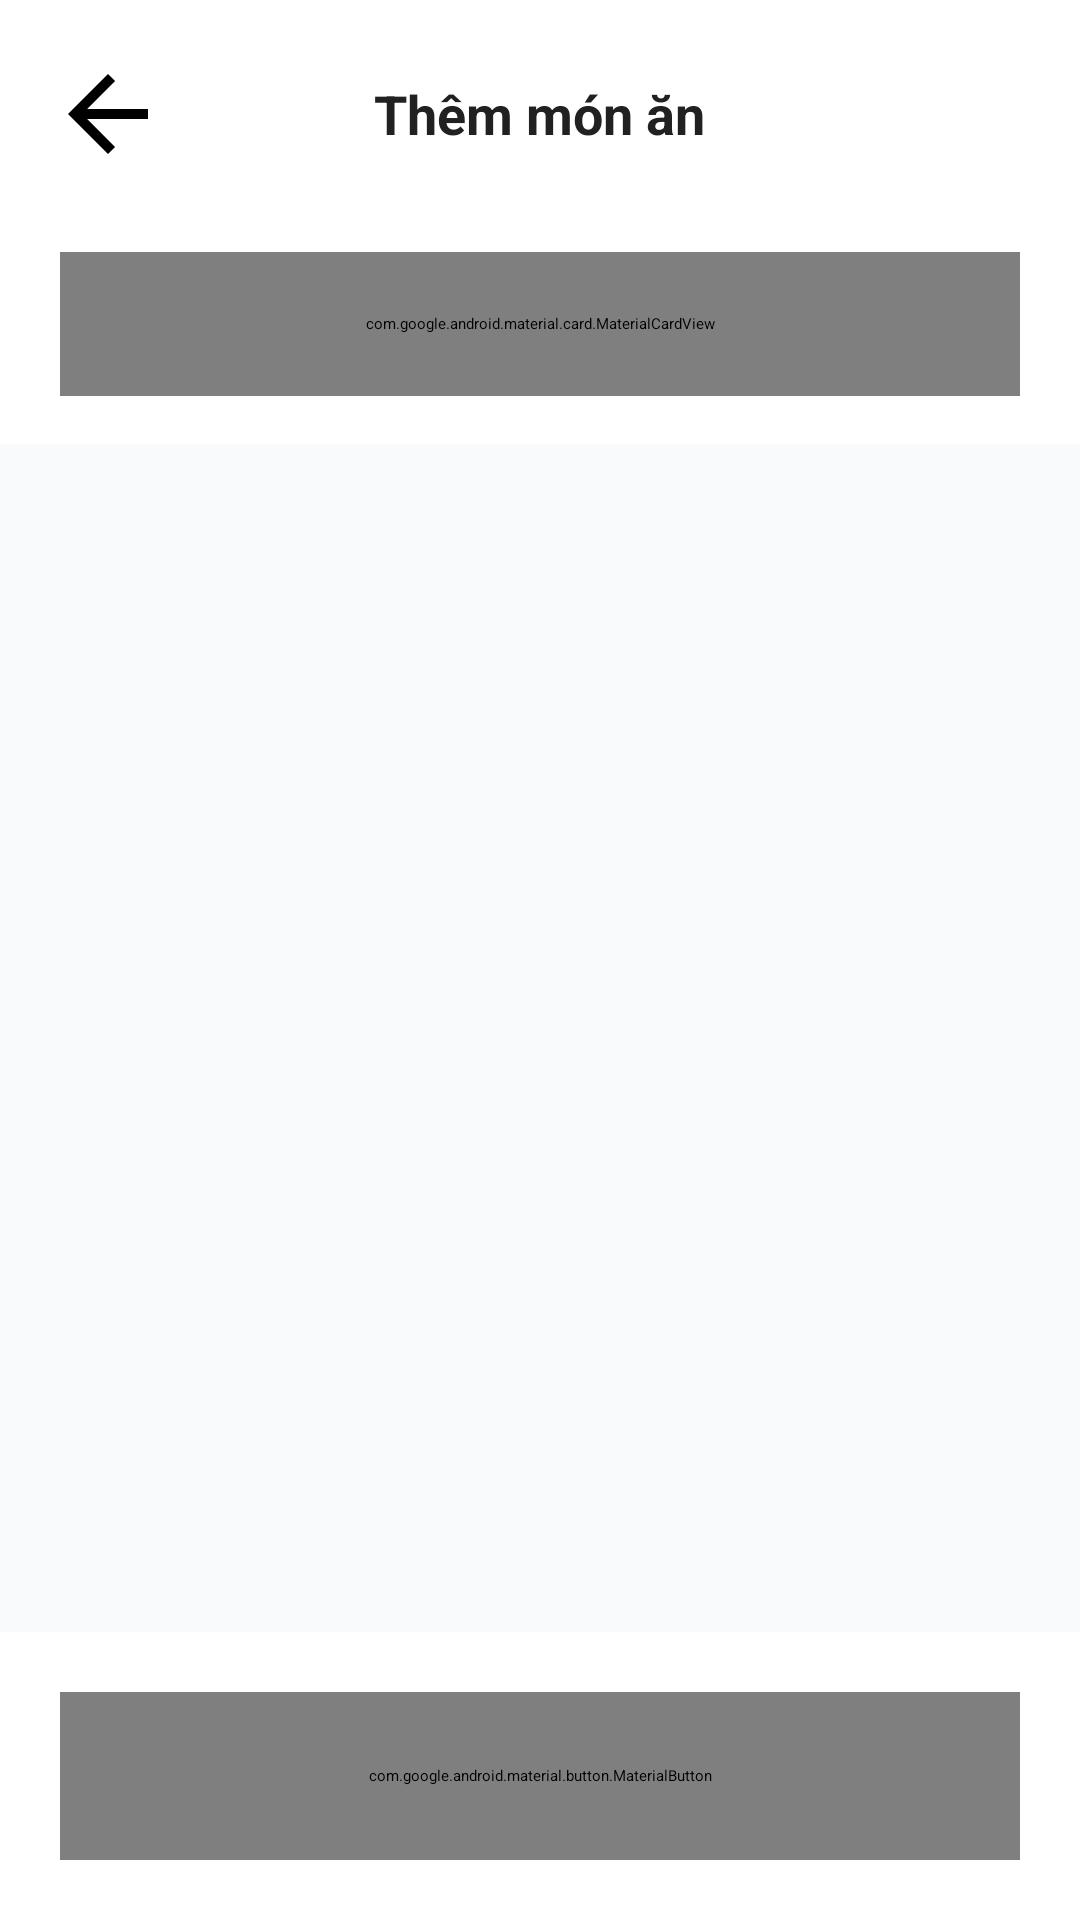

Where icons sit on this 1080w x 1920h app screen, as [x1,y1,x2,y2]:
arrow back breakfast: [68,74,148,154]
